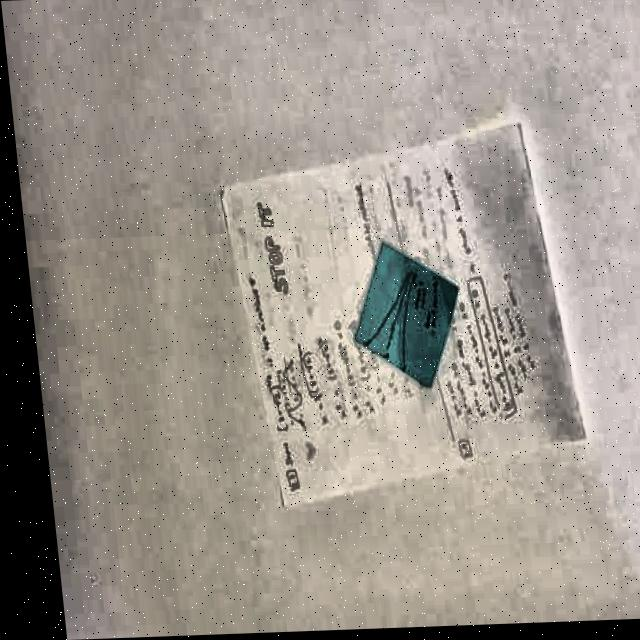paper: (211, 116, 592, 508)
